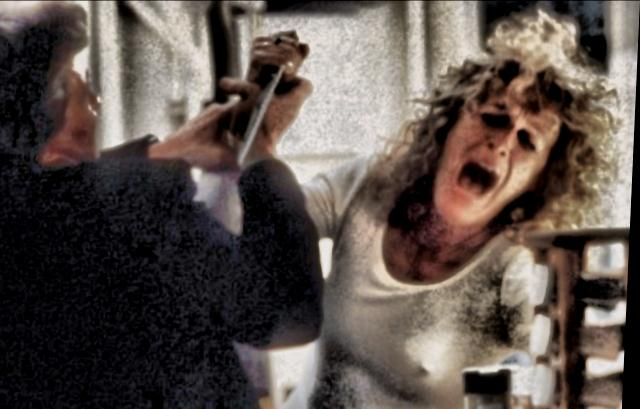knife: (226, 26, 316, 170)
